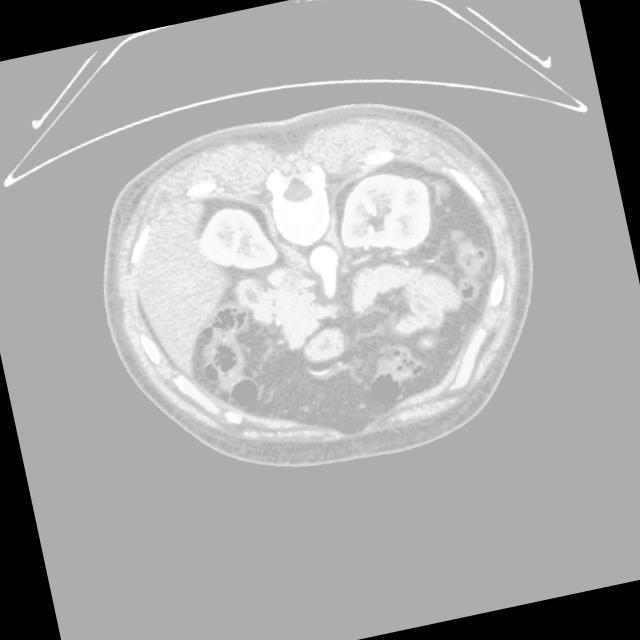NORMAL: (54, 62, 585, 513)
